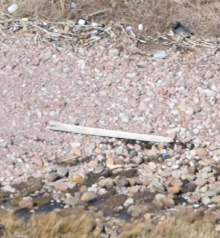scattered_barrel: (4, 1, 220, 48)
straight_bar: (45, 117, 176, 150)
